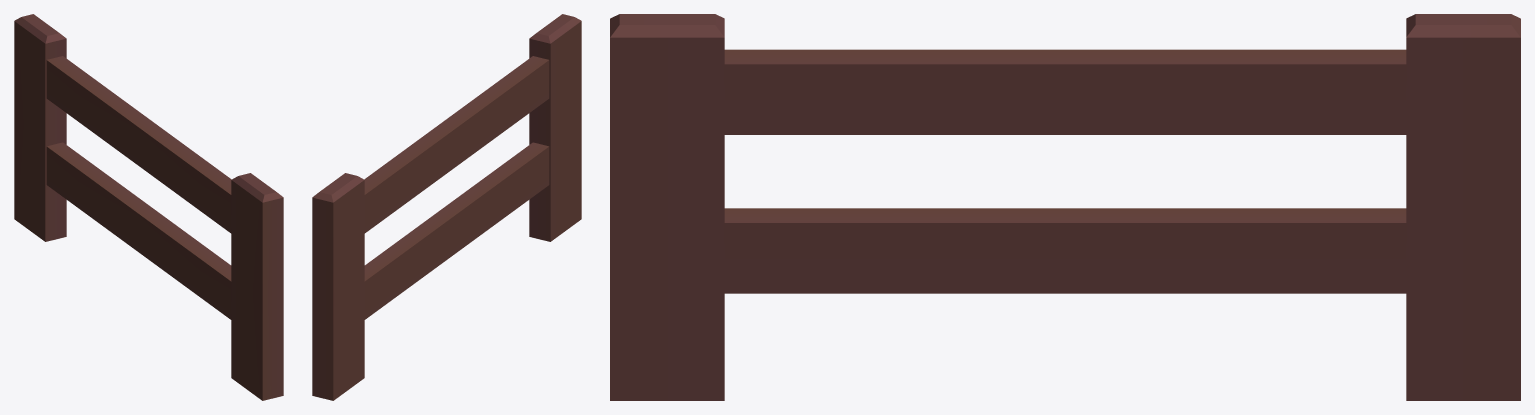
The model's file is fence.fbx.
3 renders of one model, left to right at view 1: azimuth 30°, elevation 25°; view 2: azimuth 150°, elevation 25°; view 3: azimuth 270°, elevation 25°, orthographic. The views are drawn at different scales.
Parts seen in each view (by area): view 1: Cube; view 2: Cube; view 3: Cube.
Part boxes in pixels (<box>): Cube: <box>14,14,283,400</box>; Cube: <box>312,14,581,400</box>; Cube: <box>610,14,1520,400</box>.
Bounding box in the file's own units: 21.89 × 200 × 444.
Materials: 1 (1 with a texture image).
